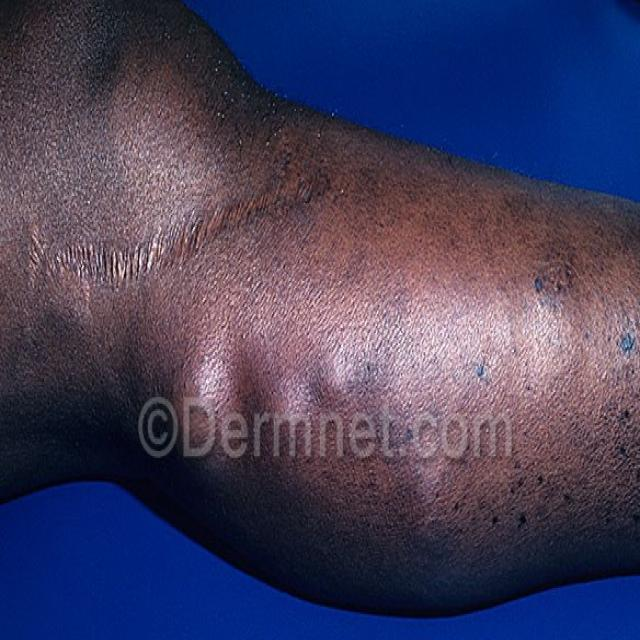Vascular Tumors: (565, 264, 640, 529)
